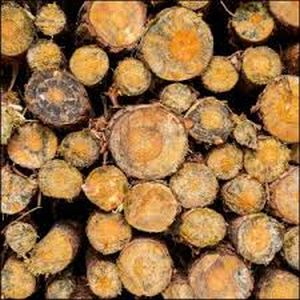log: (106, 102, 189, 182), (139, 8, 215, 80), (23, 69, 89, 129), (251, 72, 300, 147), (82, 1, 150, 53), (118, 236, 173, 296), (188, 248, 251, 300), (121, 178, 181, 232), (24, 222, 73, 281), (232, 213, 287, 264), (166, 159, 219, 209), (5, 122, 61, 168), (183, 96, 234, 145), (79, 162, 128, 213), (85, 209, 132, 259), (243, 137, 289, 185), (175, 204, 226, 247), (225, 1, 279, 41), (35, 158, 84, 202), (111, 55, 155, 101), (66, 44, 111, 86), (199, 53, 244, 95), (220, 175, 266, 216), (58, 127, 104, 167), (240, 45, 285, 85), (1, 169, 37, 217), (2, 4, 32, 58), (86, 256, 121, 300), (205, 142, 246, 178), (1, 219, 38, 258), (1, 258, 36, 298), (32, 2, 68, 39), (26, 40, 63, 74), (158, 82, 194, 111), (233, 117, 259, 149)
